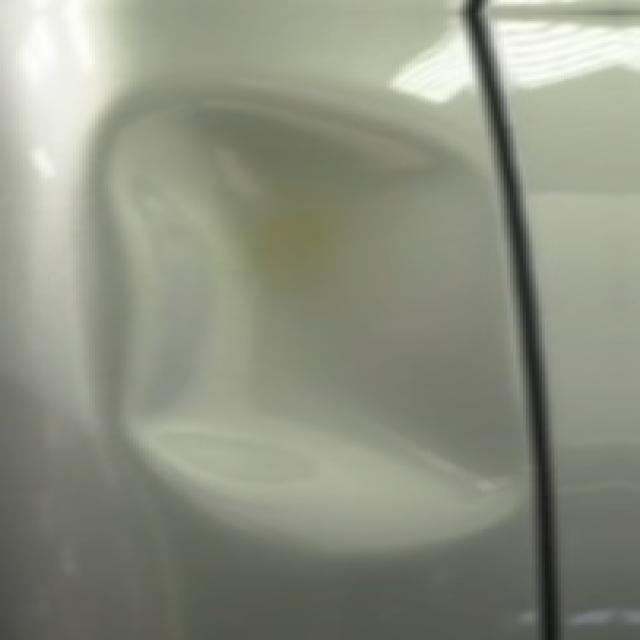dent: (92, 92, 539, 553)
